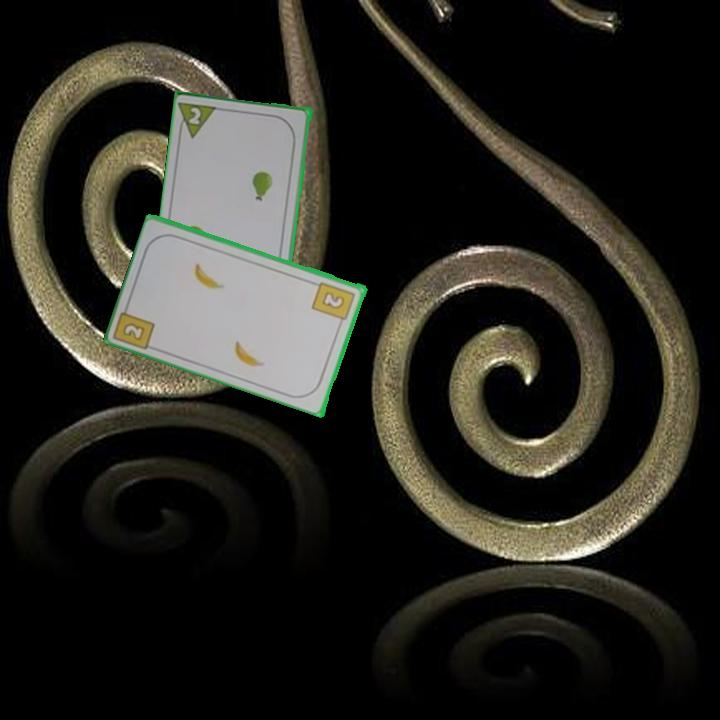2b: (309, 278, 358, 328), (112, 299, 158, 352)
2p: (174, 99, 222, 142)
